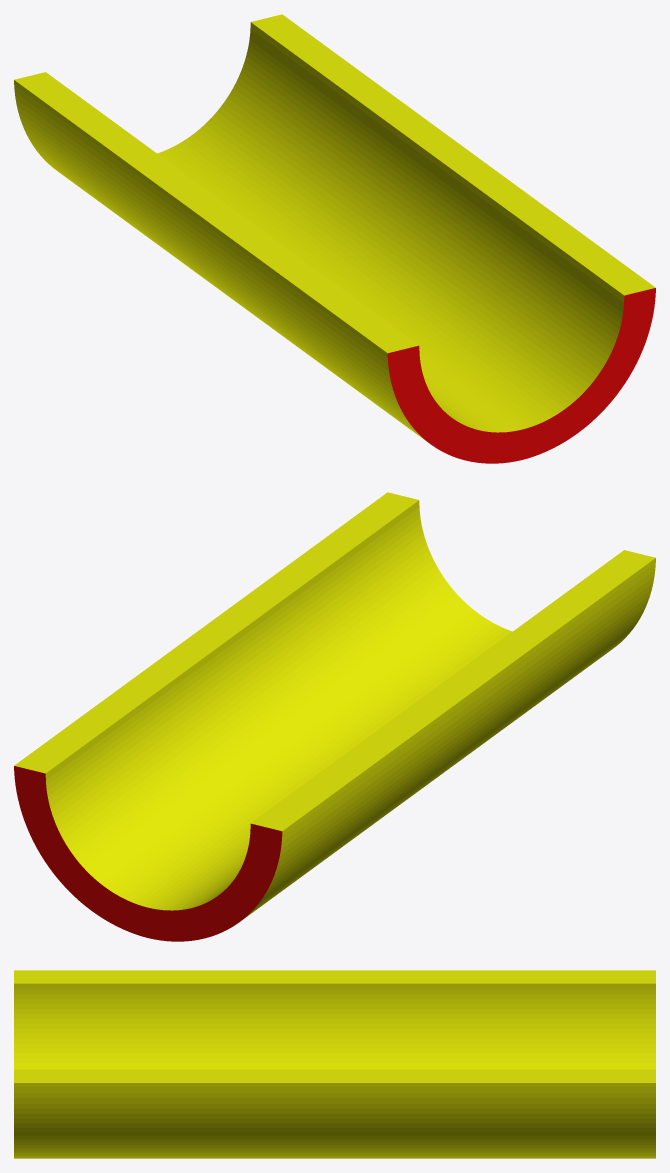
File: SM_WaterShape_SkateRamp_002.fbx
The picture shows the model from 3 angles, top to bottom: view 1: azimuth 30°, elevation 25°; view 2: azimuth 150°, elevation 25°; view 3: azimuth 270°, elevation 25°; orthographic projection. The views are drawn at different scales.
Visible parts, largest first — view 1: Cube.011; view 2: Cube.011; view 3: Cube.011.
Part boxes in pixels (x1=…): Cube.011: x1=14, y1=14, x2=655, y2=463; Cube.011: x1=14, y1=492, x2=655, y2=941; Cube.011: x1=14, y1=970, x2=655, y2=1158.
Size of the model in its own units: 625 by 311 by 1508.
